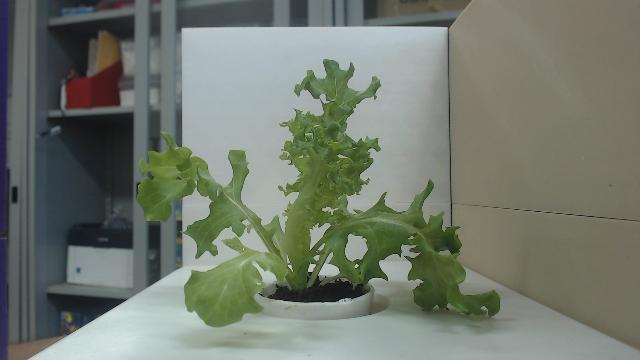Harvest Stage: (135, 57, 501, 330)
